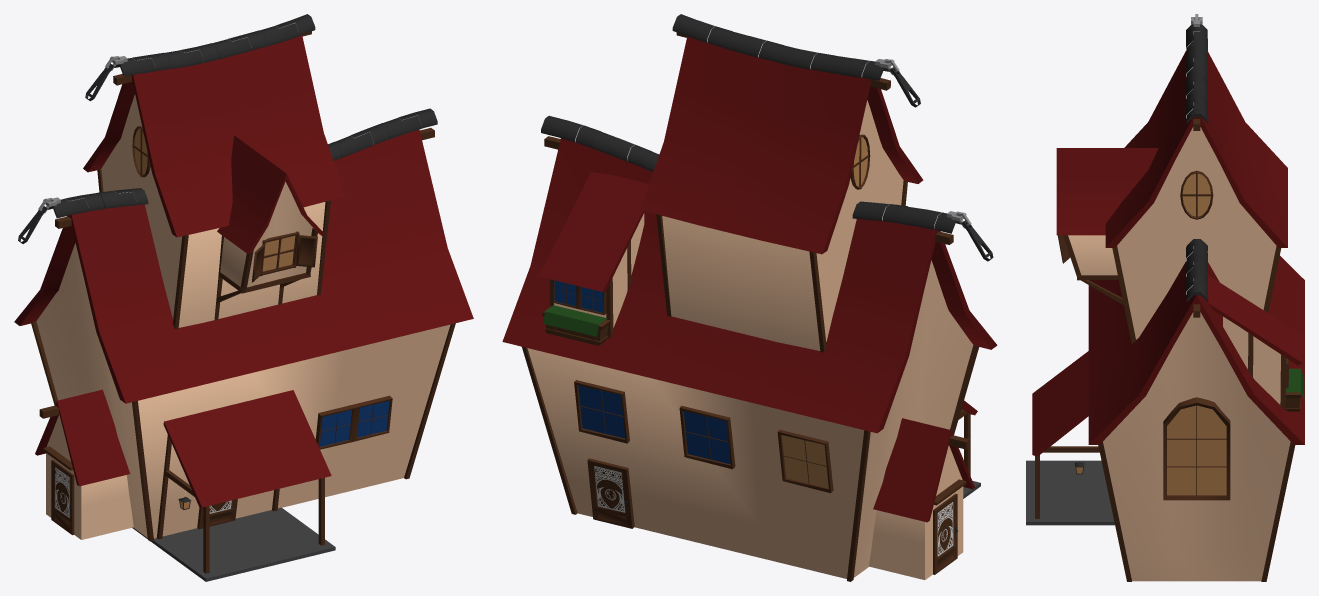
File: HouseVariation.3.fbx
The picture shows the model from 3 angles, left to right: view 1: azimuth 30°, elevation 25°; view 2: azimuth 150°, elevation 25°; view 3: azimuth 270°, elevation 25°; orthographic projection. The views are drawn at different scales.
Visible parts, largest first — view 1: HouseVariation.3; view 2: HouseVariation.3; view 3: HouseVariation.3.
Part boxes in pixels (x1=…): HouseVariation.3: x1=14, y1=14, x2=473, y2=581; HouseVariation.3: x1=502, y1=14, x2=997, y2=581; HouseVariation.3: x1=1026, y1=14, x2=1304, y2=581.
Size of the model in its own units: 1816 by 1939 by 1095.
